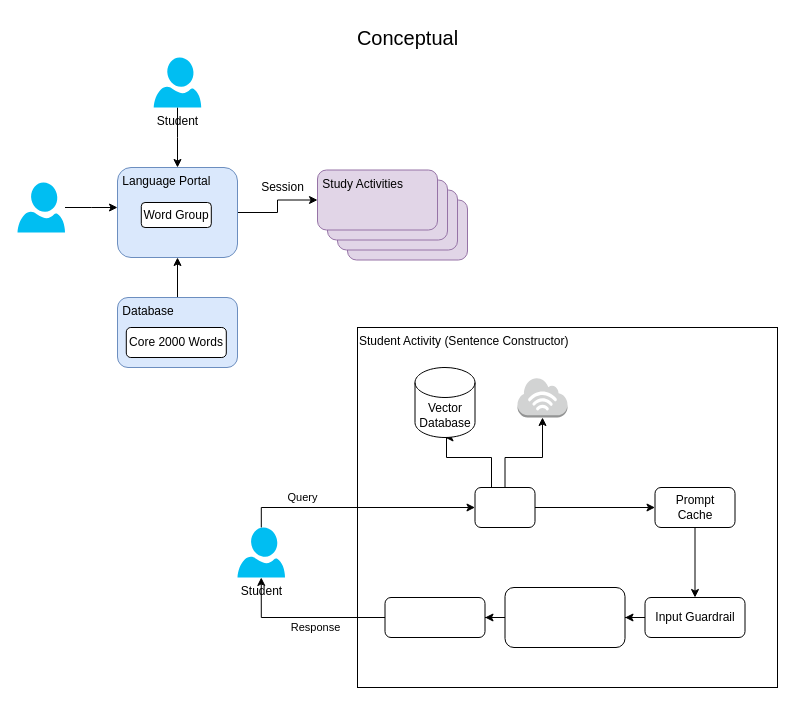
The diagram is 795 pixels wide and 705 high, and some of its shapes have lost their labels. Here are the shapes that lost their labels. From the top down, the box of each, then its label:
(17, 182, 64, 232): Teacher
(516, 376, 568, 418): Internet
(474, 486, 535, 528): RAG
(384, 596, 485, 638): Output Guardrail
(504, 586, 625, 648): LLM 8B
